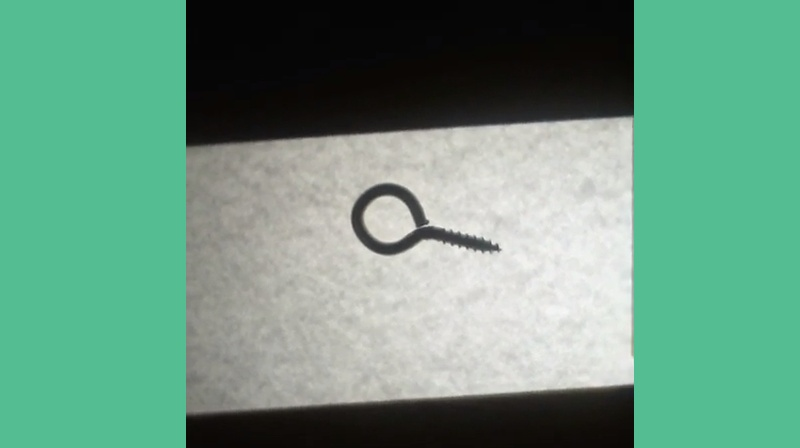O001: (349, 179, 504, 261)
